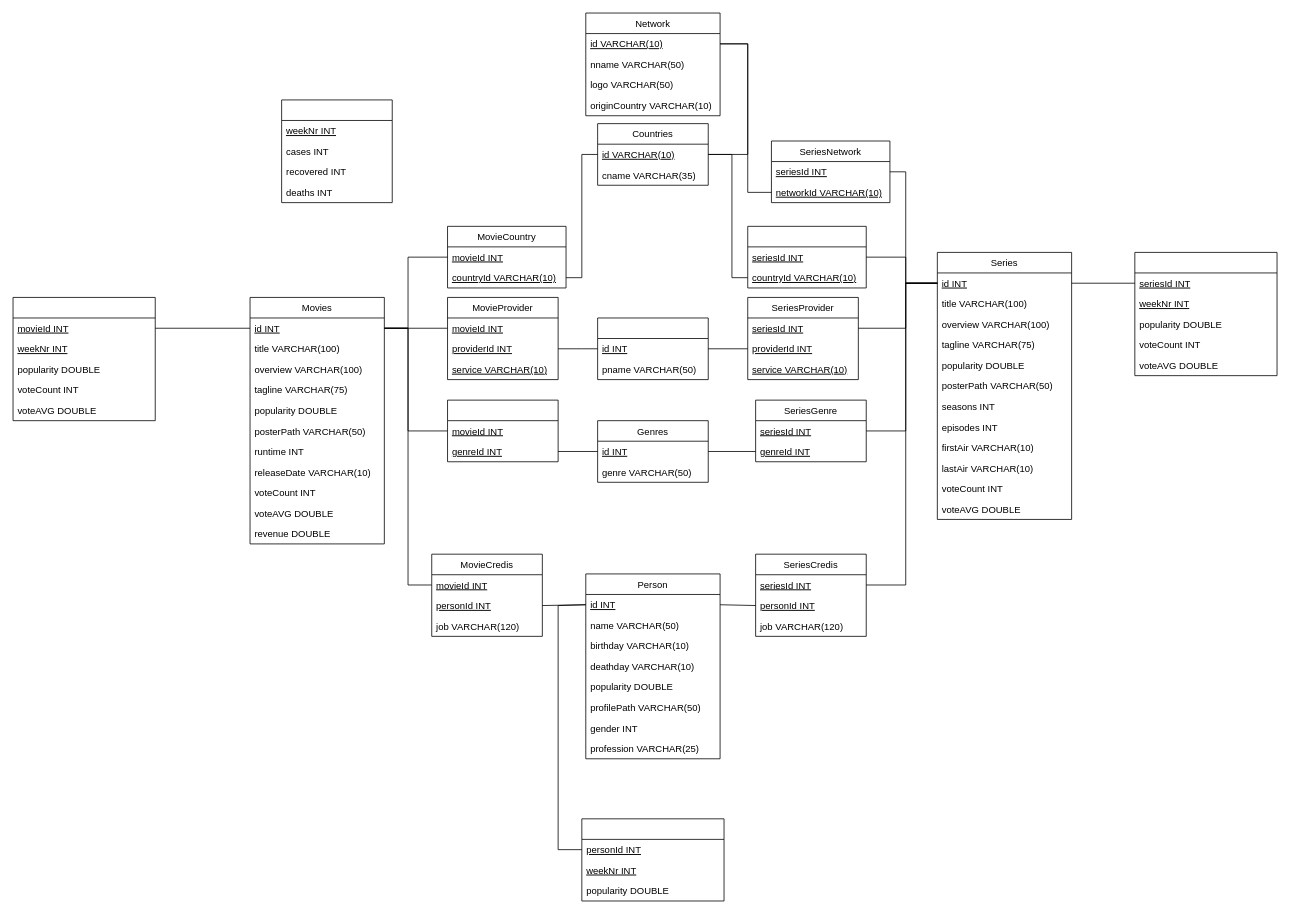
This 1290x914 diagram has some shape labels left out. Here are the shapes that lost their labels. From the top down, the box of each, then its label:
(281, 99, 392, 203): Covid
(747, 226, 866, 288): SeriesCountry
(1134, 252, 1277, 376): SeriesWeekPopularity
(12, 297, 155, 421): MovieWeekPopularity
(597, 317, 708, 380): Providers
(447, 399, 558, 462): MovieGenre
(581, 818, 724, 901): MovieWeek
